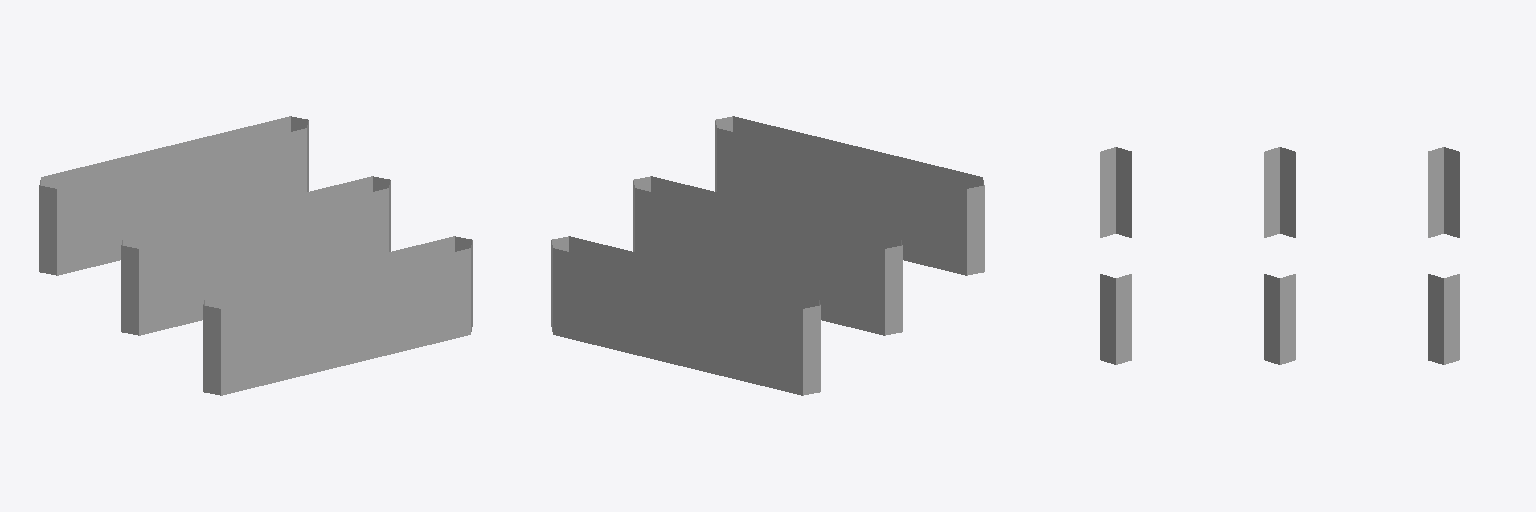
File: c_divider1.obj
The picture shows the model from 3 angles: view 1: azimuth 30°, elevation 25°; view 2: azimuth 150°, elevation 25°; view 3: azimuth 270°, elevation 25°; orthographic projection.
Visible parts, largest first — view 1: Cube.010_Cube.025; view 2: Cube.010_Cube.025; view 3: Cube.010_Cube.025.
Part boxes in pixels (x1,y1,x2,y2): Cube.010_Cube.025: (39, 116, 472, 395); Cube.010_Cube.025: (551, 116, 984, 395); Cube.010_Cube.025: (1100, 147, 1459, 364).
Bounding box in the file's own units: 6.49 × 2 × 7.52.